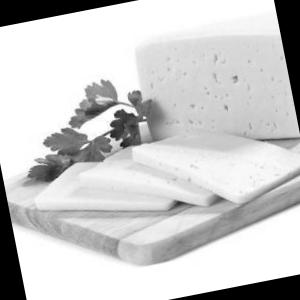cheese: (19, 88, 300, 259)
